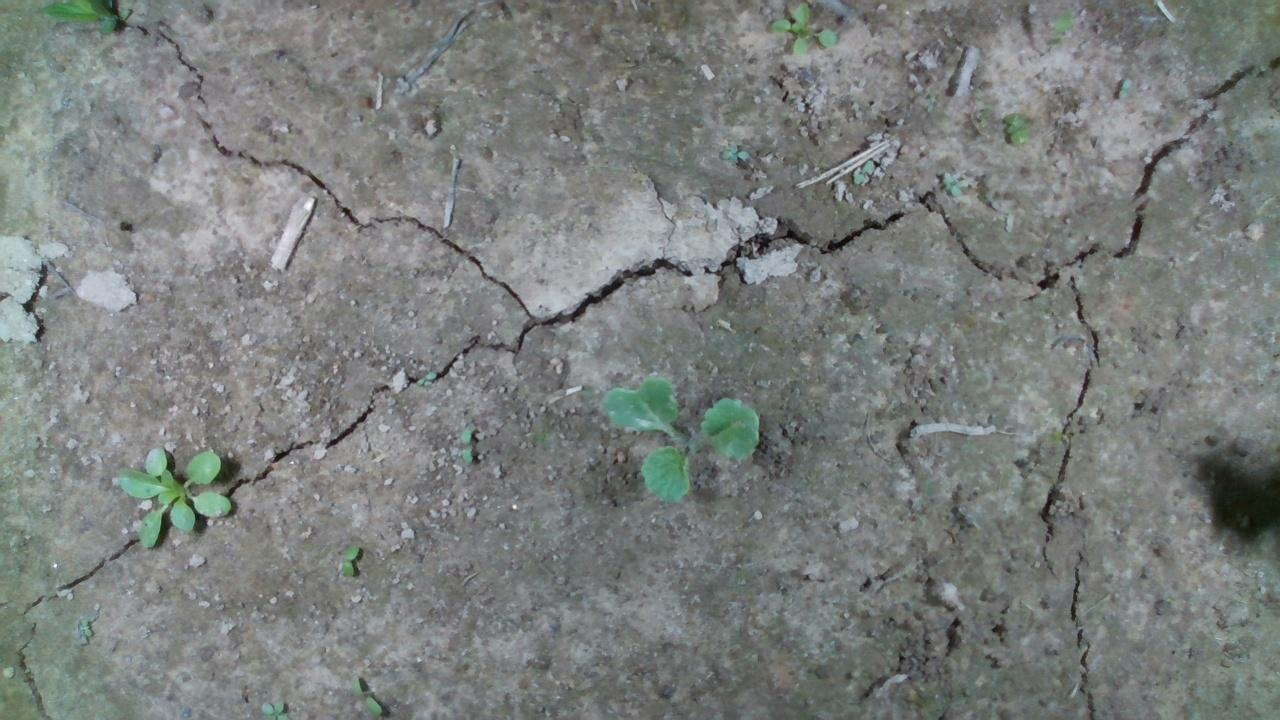weed: (764, 2, 837, 62), (449, 423, 486, 469), (333, 544, 371, 580)
